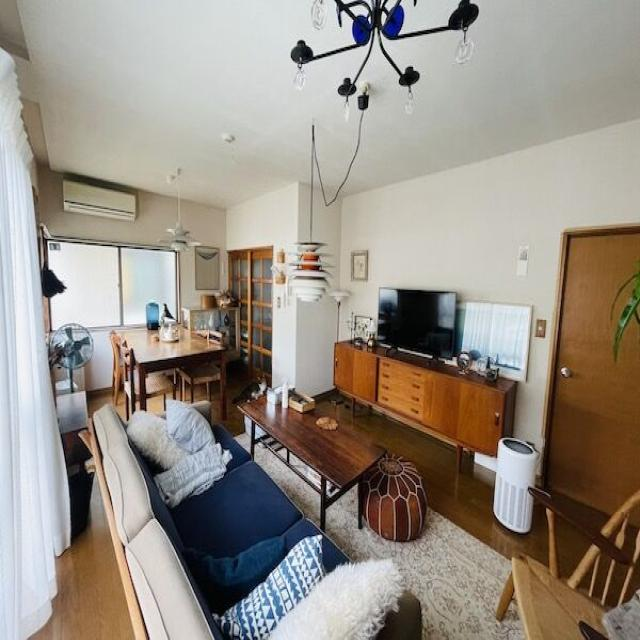vintage desk: (243, 386, 383, 525), (119, 323, 226, 405)
vintage shelf: (329, 334, 515, 466)
vintage sofa: (83, 395, 419, 640)
